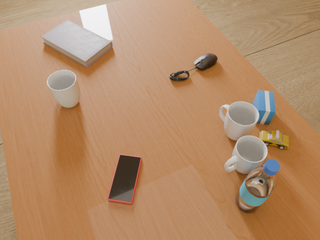book: (41, 20, 112, 67)
bottle: (235, 159, 280, 213)
box: (253, 90, 275, 124)
cup: (224, 135, 267, 174), (219, 102, 259, 141), (47, 70, 80, 108)
mouse: (194, 53, 217, 70)
phone: (108, 155, 142, 204)
toy_car: (259, 130, 289, 149)
